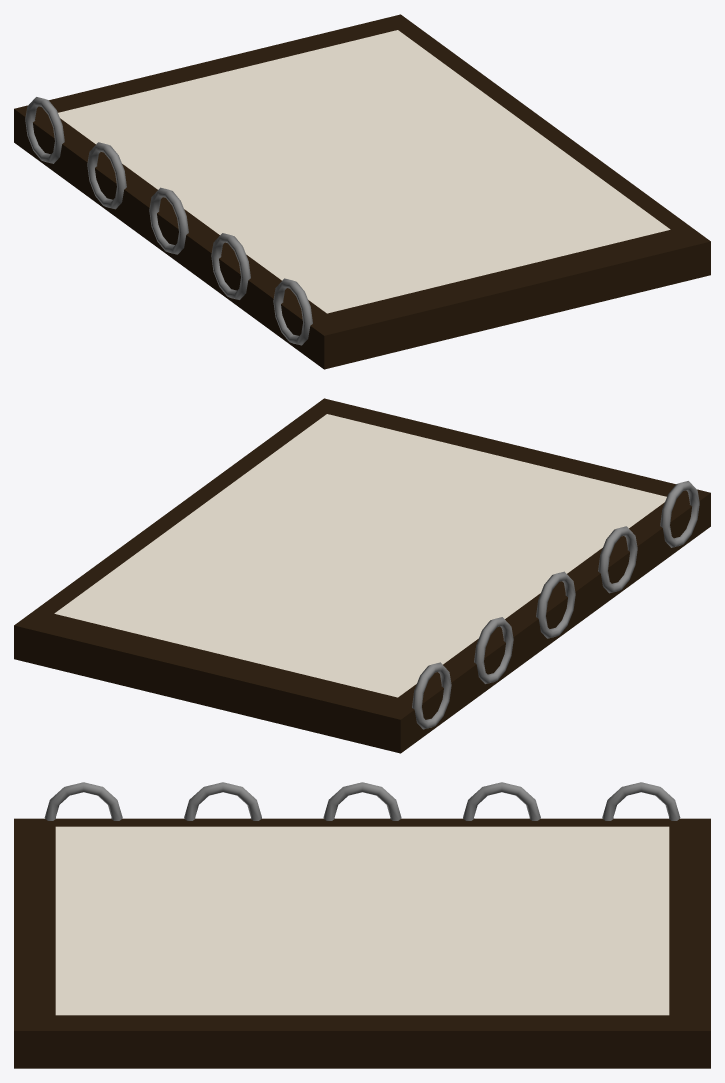
File: notebook.glb
3 views of the same model, one above another, from view 1: azimuth 30°, elevation 25°; view 2: azimuth 150°, elevation 25°; view 3: azimuth 270°, elevation 25° (orthographic). The views are drawn at different scales.
Parts seen in each view (by area): view 1: top_page, object 1, object 8, object 5, object 7, object 6, object 4; view 2: top_page, object 1, object 4, object 7, object 5, object 6, object 8; view 3: top_page, object 1, object 6, object 5, object 7, object 4, object 8.
Part boxes in pixels (box(x1,y1,x2,y2)): top_page: box(58, 30, 670, 313); object 1: box(14, 14, 710, 369); object 8: box(273, 278, 312, 345); object 5: box(87, 142, 126, 209); object 7: box(211, 233, 250, 299); object 6: box(149, 187, 188, 254); object 4: box(25, 97, 64, 163); top_page: box(54, 414, 666, 697); object 1: box(14, 398, 710, 753); object 4: box(412, 662, 451, 729); object 7: box(598, 526, 637, 593); object 5: box(474, 617, 513, 683); object 6: box(536, 571, 575, 638); object 8: box(660, 481, 699, 547); top_page: box(55, 826, 669, 1015); object 1: box(14, 818, 710, 1068); object 6: box(323, 782, 401, 820); object 5: box(463, 782, 540, 820); object 7: box(184, 782, 261, 820); object 4: box(602, 782, 680, 820); object 8: box(44, 782, 122, 820).
Bounding box in the file's own units: 0.1817 × 0.0295 × 0.25.
